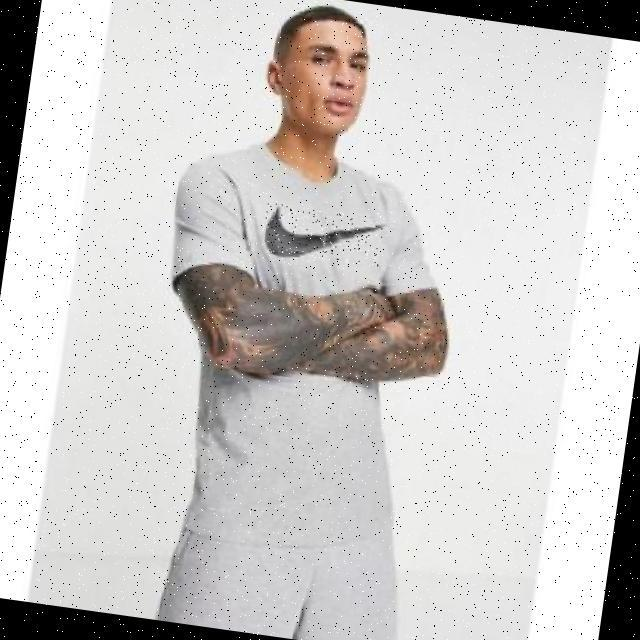Nike: (260, 203, 385, 268)
